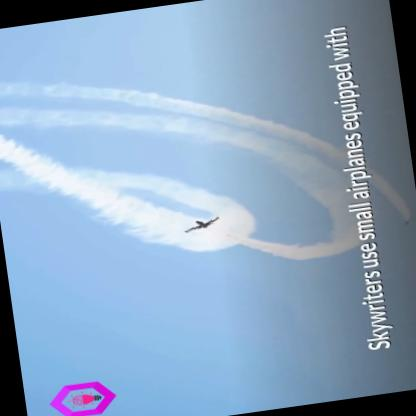plane: (173, 204, 231, 236)
